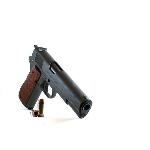Pistol: (18, 44, 92, 118)
